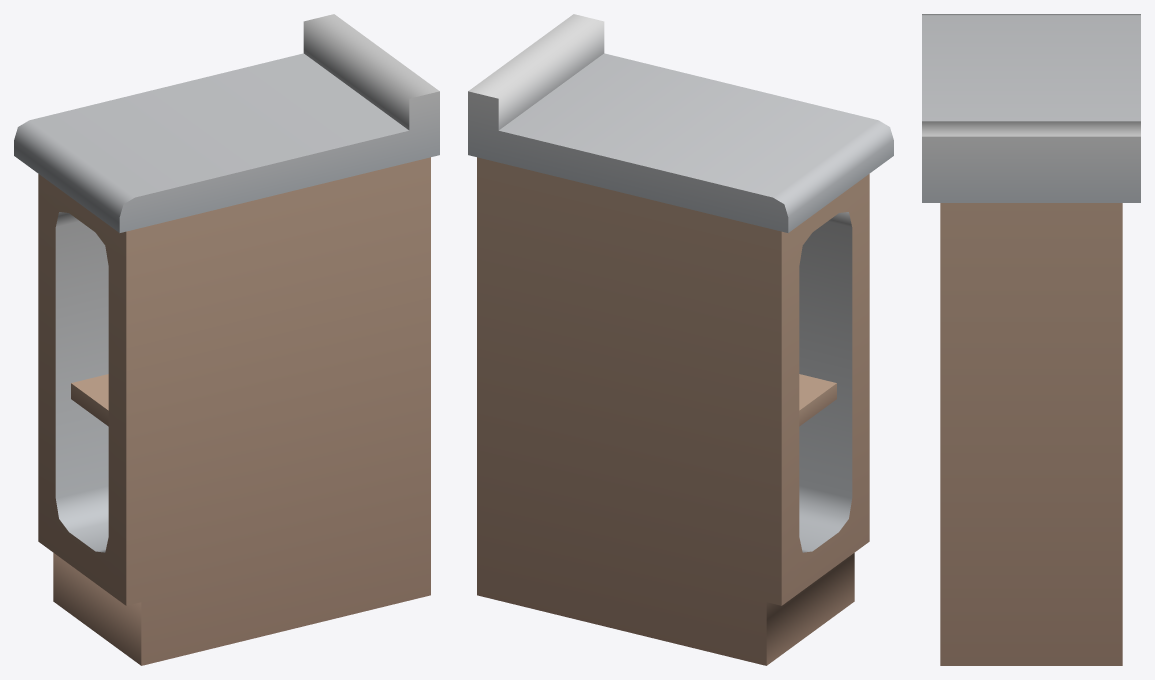
File: cabinet-basic-narrow.glb
The picture shows the model from 3 angles, left to right: view 1: azimuth 30°, elevation 25°; view 2: azimuth 150°, elevation 25°; view 3: azimuth 270°, elevation 25°; orthographic projection. The views are drawn at different scales.
Visible parts, largest first — view 1: cabinet-basic-narrow; view 2: cabinet-basic-narrow; view 3: cabinet-basic-narrow.
Part boxes in pixels (bbox=[...]): cabinet-basic-narrow: bbox=[14, 14, 439, 665]; cabinet-basic-narrow: bbox=[468, 14, 893, 665]; cabinet-basic-narrow: bbox=[922, 14, 1140, 665].
Size of the model in its own units: 0.525 by 0.8 by 0.3.
